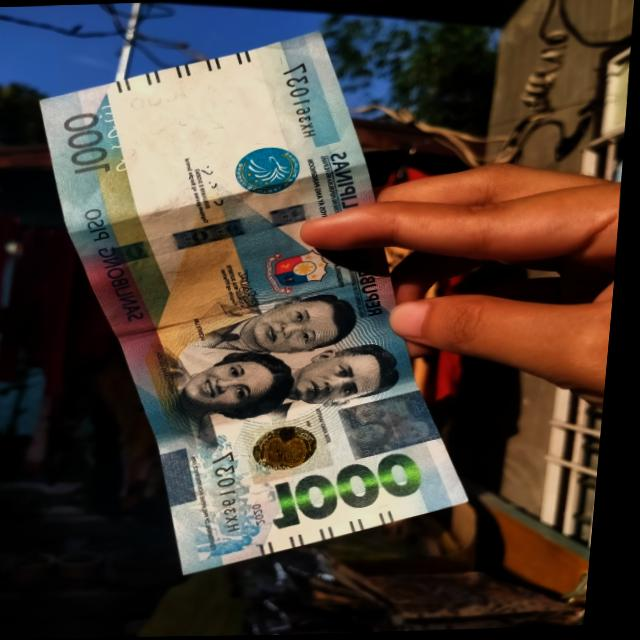concealed_value: (344, 390, 449, 460)
optically_variable_device: (249, 413, 341, 486)
security_thread: (84, 187, 379, 269)
see_through_mark: (93, 96, 140, 174)
serial_number: (277, 56, 336, 144), (213, 448, 254, 537)
value: (271, 445, 439, 531)
value_watermark: (127, 82, 192, 112)
